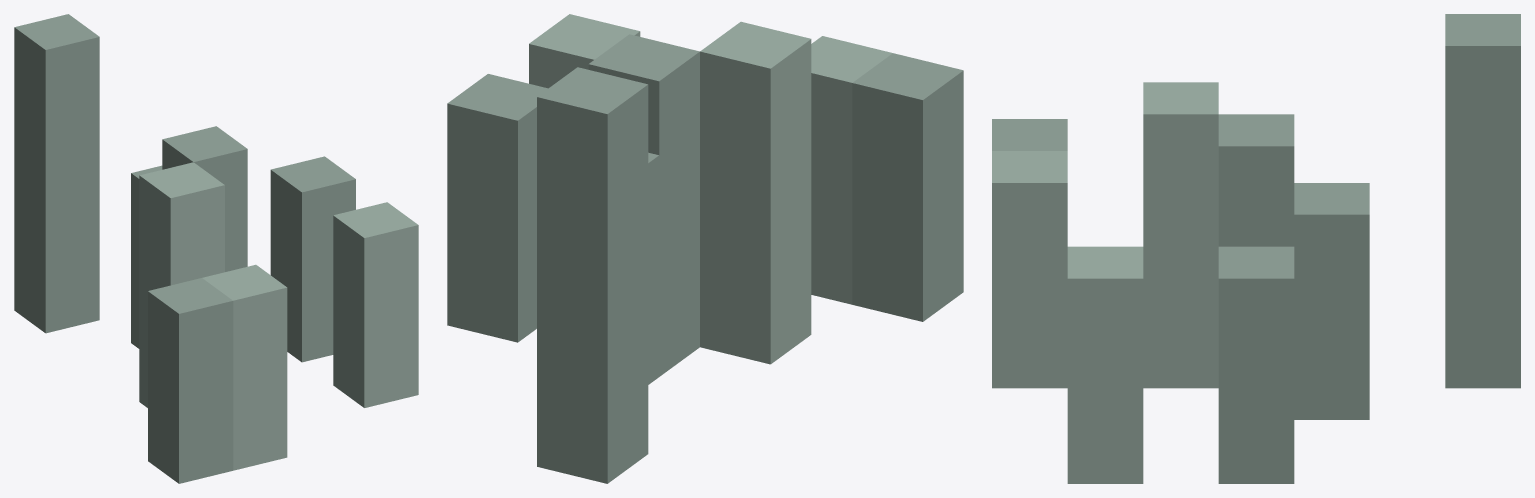
The model's file is musgo_de_altura_03.glb.
The picture shows the model from 3 angles, left to right: view 1: azimuth 30°, elevation 25°; view 2: azimuth 150°, elevation 25°; view 3: azimuth 270°, elevation 25°; orthographic projection. The views are drawn at different scales.
Visible parts, largest first — view 1: musgo_de_altura_03; view 2: musgo_de_altura_03; view 3: musgo_de_altura_03.
Part boxes in pixels (bbox=[...]): musgo_de_altura_03: bbox=[14, 14, 418, 483]; musgo_de_altura_03: bbox=[447, 14, 963, 483]; musgo_de_altura_03: bbox=[992, 14, 1520, 483].
Bounding box in the file's own units: 0.5 × 0.5 × 0.7.
